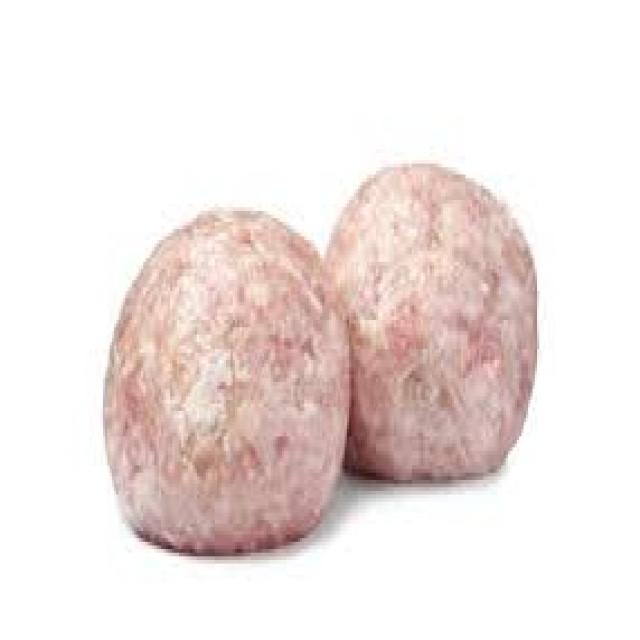meatball: (104, 206, 366, 572), (328, 151, 544, 516)
